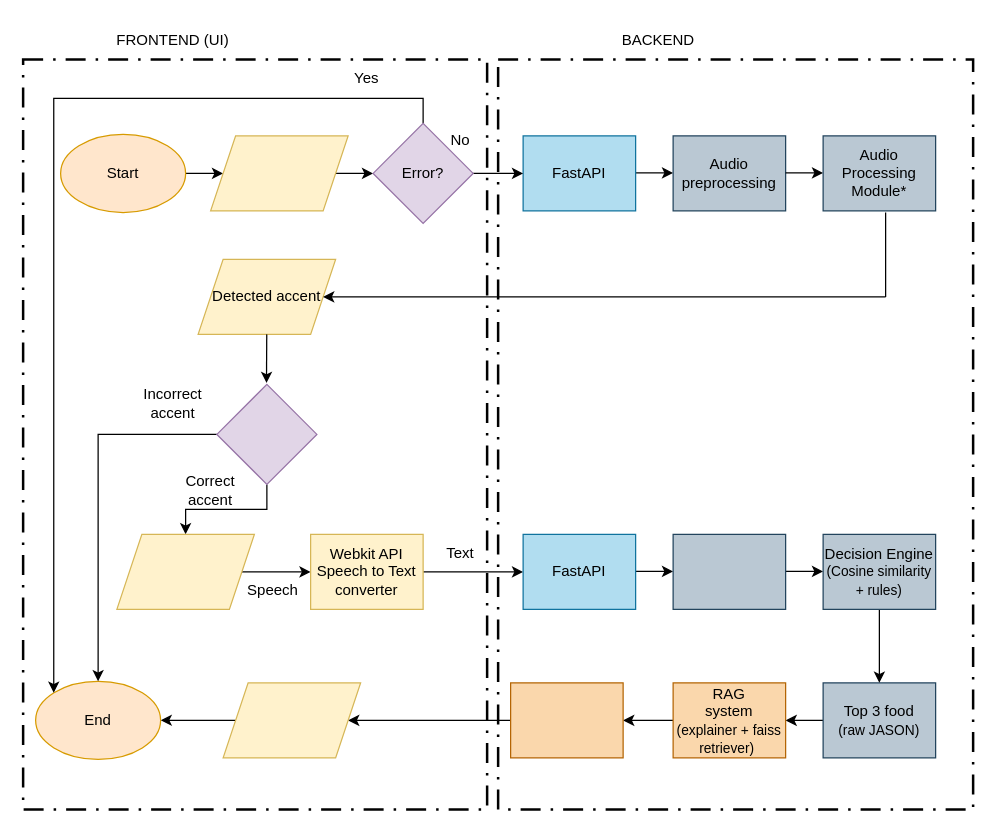
Some shapes in this 995 by 831 pixel diagram are drawn without their labels. Each missing label, with the centre of its shape:
Accent verified by user?: the point at 266,433
LLM rephraser: the point at 566,720
Output Response: the point at 291,720
Preference query: the point at 185,571
Speech Parser: the point at 729,571
User query: the point at 278,173
